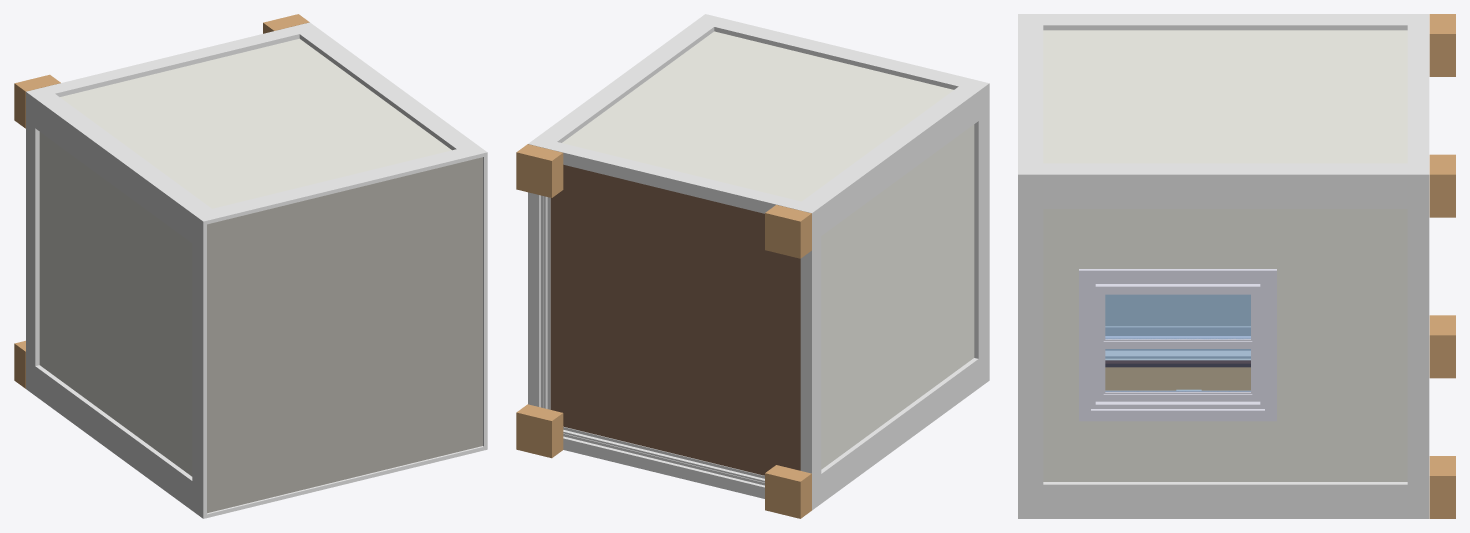
Rendered from TSC2400.obj.
3 renders of one model, left to right at view 1: azimuth 30°, elevation 25°; view 2: azimuth 150°, elevation 25°; view 3: azimuth 270°, elevation 25°, orthographic. The views are drawn at different scales.
Visible parts, largest first — view 1: TECHO TERMICO, MURO METALICO TERMOAISLANTE e=0.05m:3, MURO METALICO TERMOAISLANTE e=0.05m, VIGA MOSULAR 2, COLUMNA MODULAR, VIGA SWEEP, COLUMNA MODULAR:2, COLUMNA MODULAR:1, DADO DE CONCRETO 300x300x300:3; view 2: PISO TRIPLAY FENOLICO 18mm, MURO METALICO TERMOAISLANTE e=0.05m:3, MURO METALICO TERMOAISLANTE e=0.05m, VIGA SWEEP, VIGA MOSULAR 2, COLUMNA MODULAR, COLUMNA MODULAR:2, COLUMNA MODULAR:1, DADO DE CONCRETO 300x300x300:2, DADO DE CONCRETO 300x300x300:1, DADO DE CONCRETO 300x300x300:3, DADO DE CONCRETO 300x300x300; view 3: MURO METALICO TERMOAISLANTE e=0.05m:2, MURO METALICO TERMOAISLANTE e=0.05m, COLUMNA MODULAR:1, COLUMNA MODULAR:3, VIGA MOSULAR 2, VIGA SWEEP, VENTANA CORREDIZA 0.90x1.10 m:2, VENTANA CORREDIZA 0.90x1.10 m:5, VENTANA CORREDIZA 0.90x1.10 m:7, COLUMNA MODULAR, MURO METALICO TERMOAISLANTE e=0.05m:3, VENTANA CORREDIZA 0.90x1.10 m:4 (+9 smaller).
Part boxes in pixels (bbox=[...]): TECHO TERMICO: bbox=[207, 157, 482, 513]; MURO METALICO TERMOAISLANTE e=0.05m:3: bbox=[39, 132, 192, 476]; MURO METALICO TERMOAISLANTE e=0.05m: bbox=[60, 38, 451, 208]; VIGA MOSULAR 2: bbox=[192, 144, 487, 518]; COLUMNA MODULAR: bbox=[35, 94, 211, 242]; VIGA SWEEP: bbox=[26, 22, 318, 395]; COLUMNA MODULAR:2: bbox=[35, 365, 192, 510]; COLUMNA MODULAR:1: bbox=[299, 29, 475, 150]; DADO DE CONCRETO 300x300x300:3: bbox=[14, 74, 60, 128]; PISO TRIPLAY FENOLICO 18mm: bbox=[550, 164, 800, 475]; MURO METALICO TERMOAISLANTE e=0.05m:3: bbox=[821, 124, 974, 469]; MURO METALICO TERMOAISLANTE e=0.05m: bbox=[562, 31, 953, 201]; VIGA SWEEP: bbox=[528, 137, 821, 510]; VIGA MOSULAR 2: bbox=[695, 14, 989, 388]; COLUMNA MODULAR: bbox=[802, 86, 978, 235]; COLUMNA MODULAR:2: bbox=[821, 358, 978, 503]; COLUMNA MODULAR:1: bbox=[538, 22, 714, 142]; DADO DE CONCRETO 300x300x300:2: bbox=[516, 404, 563, 458]; DADO DE CONCRETO 300x300x300:1: bbox=[516, 144, 563, 197]; DADO DE CONCRETO 300x300x300:3: bbox=[765, 205, 811, 258]; DADO DE CONCRETO 300x300x300: bbox=[765, 465, 811, 518]; MURO METALICO TERMOAISLANTE e=0.05m:2: bbox=[1043, 209, 1407, 481]; MURO METALICO TERMOAISLANTE e=0.05m: bbox=[1043, 30, 1407, 163]; COLUMNA MODULAR:1: bbox=[1043, 163, 1407, 208]; COLUMNA MODULAR:3: bbox=[1043, 482, 1407, 518]; VIGA MOSULAR 2: bbox=[1018, 14, 1043, 518]; VIGA SWEEP: bbox=[1407, 14, 1429, 518]; VENTANA CORREDIZA 0.90x1.10 m:2: bbox=[1079, 269, 1276, 421]; VENTANA CORREDIZA 0.90x1.10 m:5: bbox=[1105, 295, 1250, 338]; VENTANA CORREDIZA 0.90x1.10 m:7: bbox=[1105, 349, 1250, 391]; COLUMNA MODULAR: bbox=[1043, 14, 1407, 30]; MURO METALICO TERMOAISLANTE e=0.05m:3: bbox=[1105, 294, 1250, 326]; VENTANA CORREDIZA 0.90x1.10 m:4: bbox=[1095, 284, 1260, 348].
Size of the model in its own units: 2.4 by 2.4 by 2.76.
